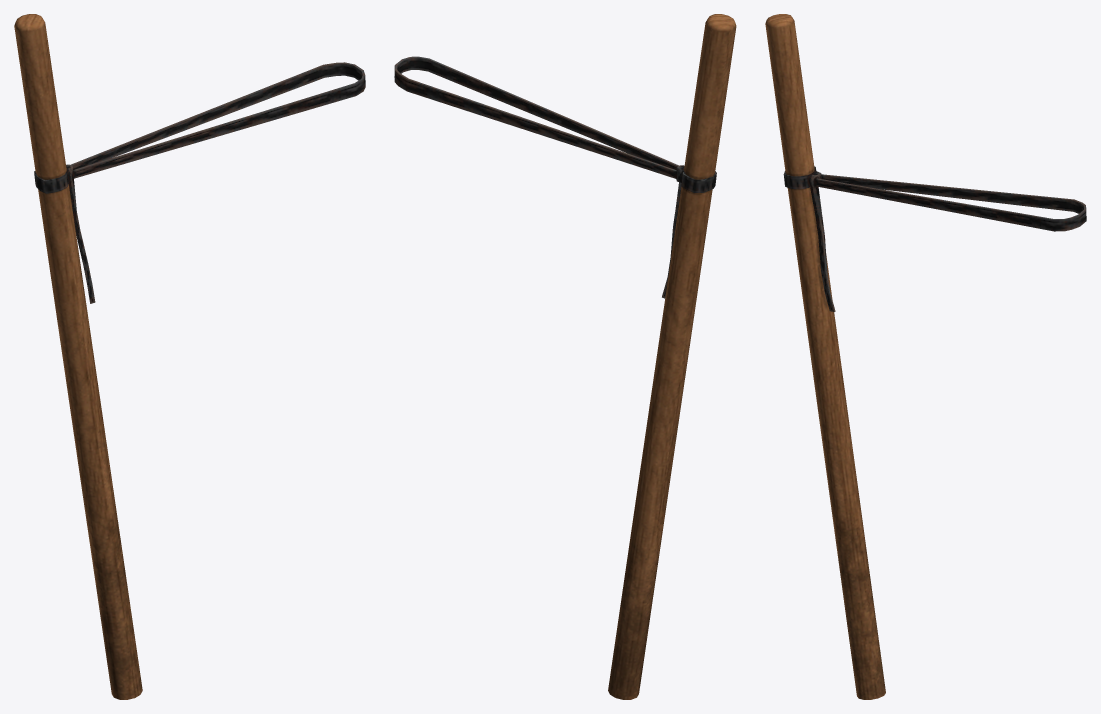
The model's file is Tree_Attachment.fbx.
3 views of the same model, side by side, from view 1: azimuth 30°, elevation 25°; view 2: azimuth 150°, elevation 25°; view 3: azimuth 330°, elevation 25° (orthographic). The views are drawn at different scales.
Visible parts, largest first — view 1: Tree_Attachment_LOD0; view 2: Tree_Attachment_LOD0; view 3: Tree_Attachment_LOD0.
Boxes of the visible parts, bbox=[...] form: Tree_Attachment_LOD0: bbox=[14, 14, 365, 699]; Tree_Attachment_LOD0: bbox=[394, 14, 736, 699]; Tree_Attachment_LOD0: bbox=[765, 14, 1086, 699].
Size of what is drawn, in the model's own units: 53.55 by 105 by 7.47.
